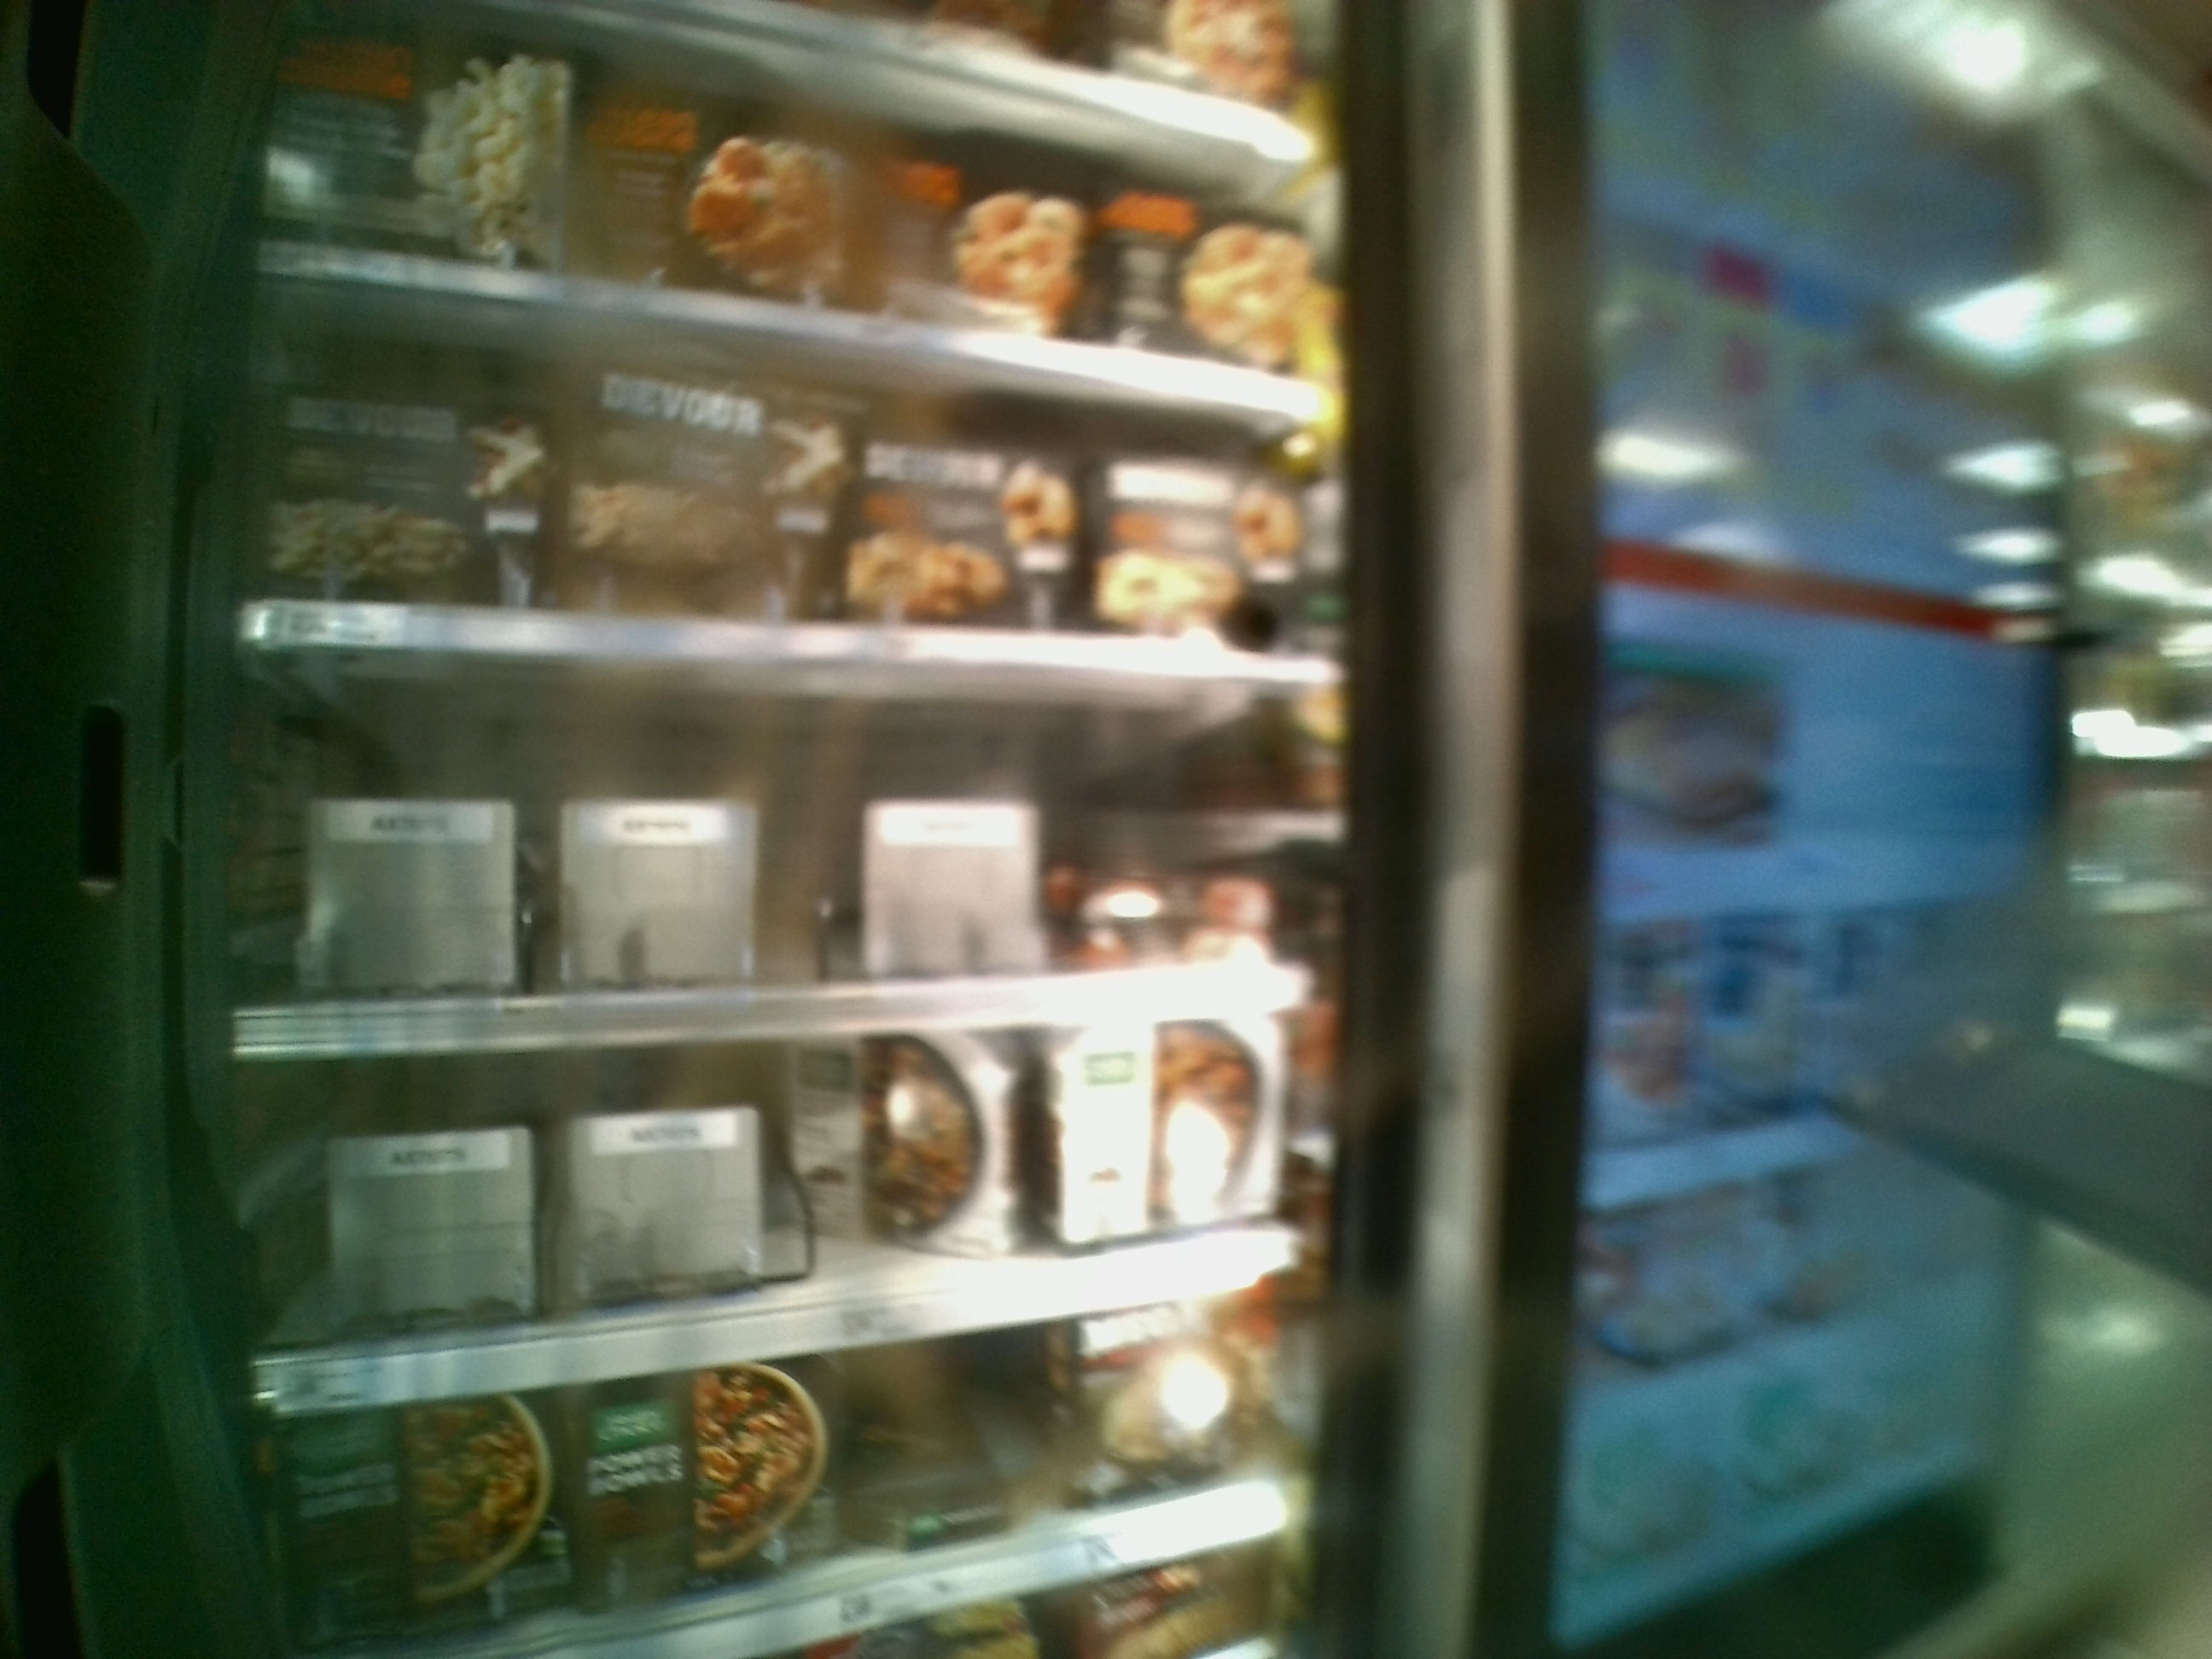shelf: (218, 638, 1343, 1044), (240, 990, 1315, 1412)
